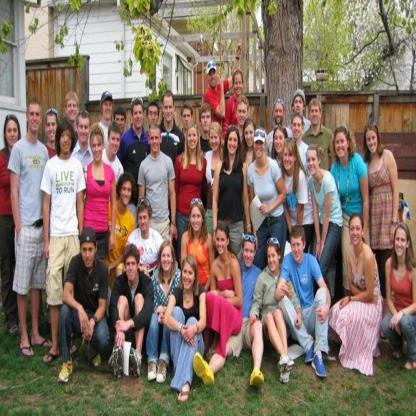face: (350, 218, 363, 246), (82, 243, 96, 268), (396, 228, 408, 257), (29, 106, 41, 132), (7, 122, 19, 148), (60, 128, 72, 154), (183, 265, 195, 290), (127, 256, 139, 281), (79, 119, 91, 143), (307, 152, 319, 176), (336, 135, 348, 159), (292, 238, 304, 261), (216, 232, 228, 255), (47, 117, 58, 142), (92, 137, 103, 162), (244, 243, 255, 268), (268, 248, 279, 272), (121, 182, 132, 205), (228, 132, 239, 155), (284, 148, 295, 171), (192, 208, 203, 231), (162, 249, 173, 272), (366, 132, 378, 153), (164, 97, 174, 122), (67, 99, 78, 121), (110, 133, 121, 155), (150, 130, 161, 152), (188, 128, 199, 150), (275, 132, 286, 154), (134, 105, 144, 129), (238, 102, 248, 126), (245, 126, 255, 148), (139, 212, 150, 232), (211, 131, 221, 152), (149, 106, 159, 126), (208, 68, 218, 88), (202, 112, 212, 132), (255, 139, 265, 159), (311, 105, 321, 125), (293, 120, 303, 140), (103, 100, 113, 119), (116, 116, 126, 135), (183, 109, 192, 130), (295, 97, 304, 116), (275, 106, 284, 125), (235, 75, 243, 94), (399, 209, 403, 219), (399, 193, 402, 199)
